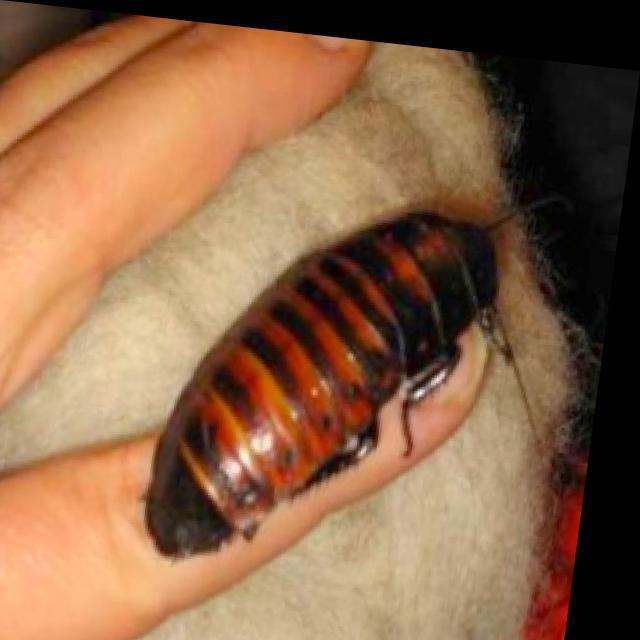cockroach: (139, 205, 505, 562)
